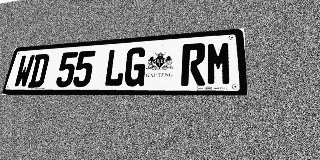5: (72, 50, 96, 87), (55, 52, 78, 87)
D: (27, 54, 50, 88)
G: (123, 47, 147, 87)
L: (103, 48, 127, 87)
M: (206, 41, 232, 86)
R: (181, 43, 206, 86)
W: (13, 55, 35, 88)
